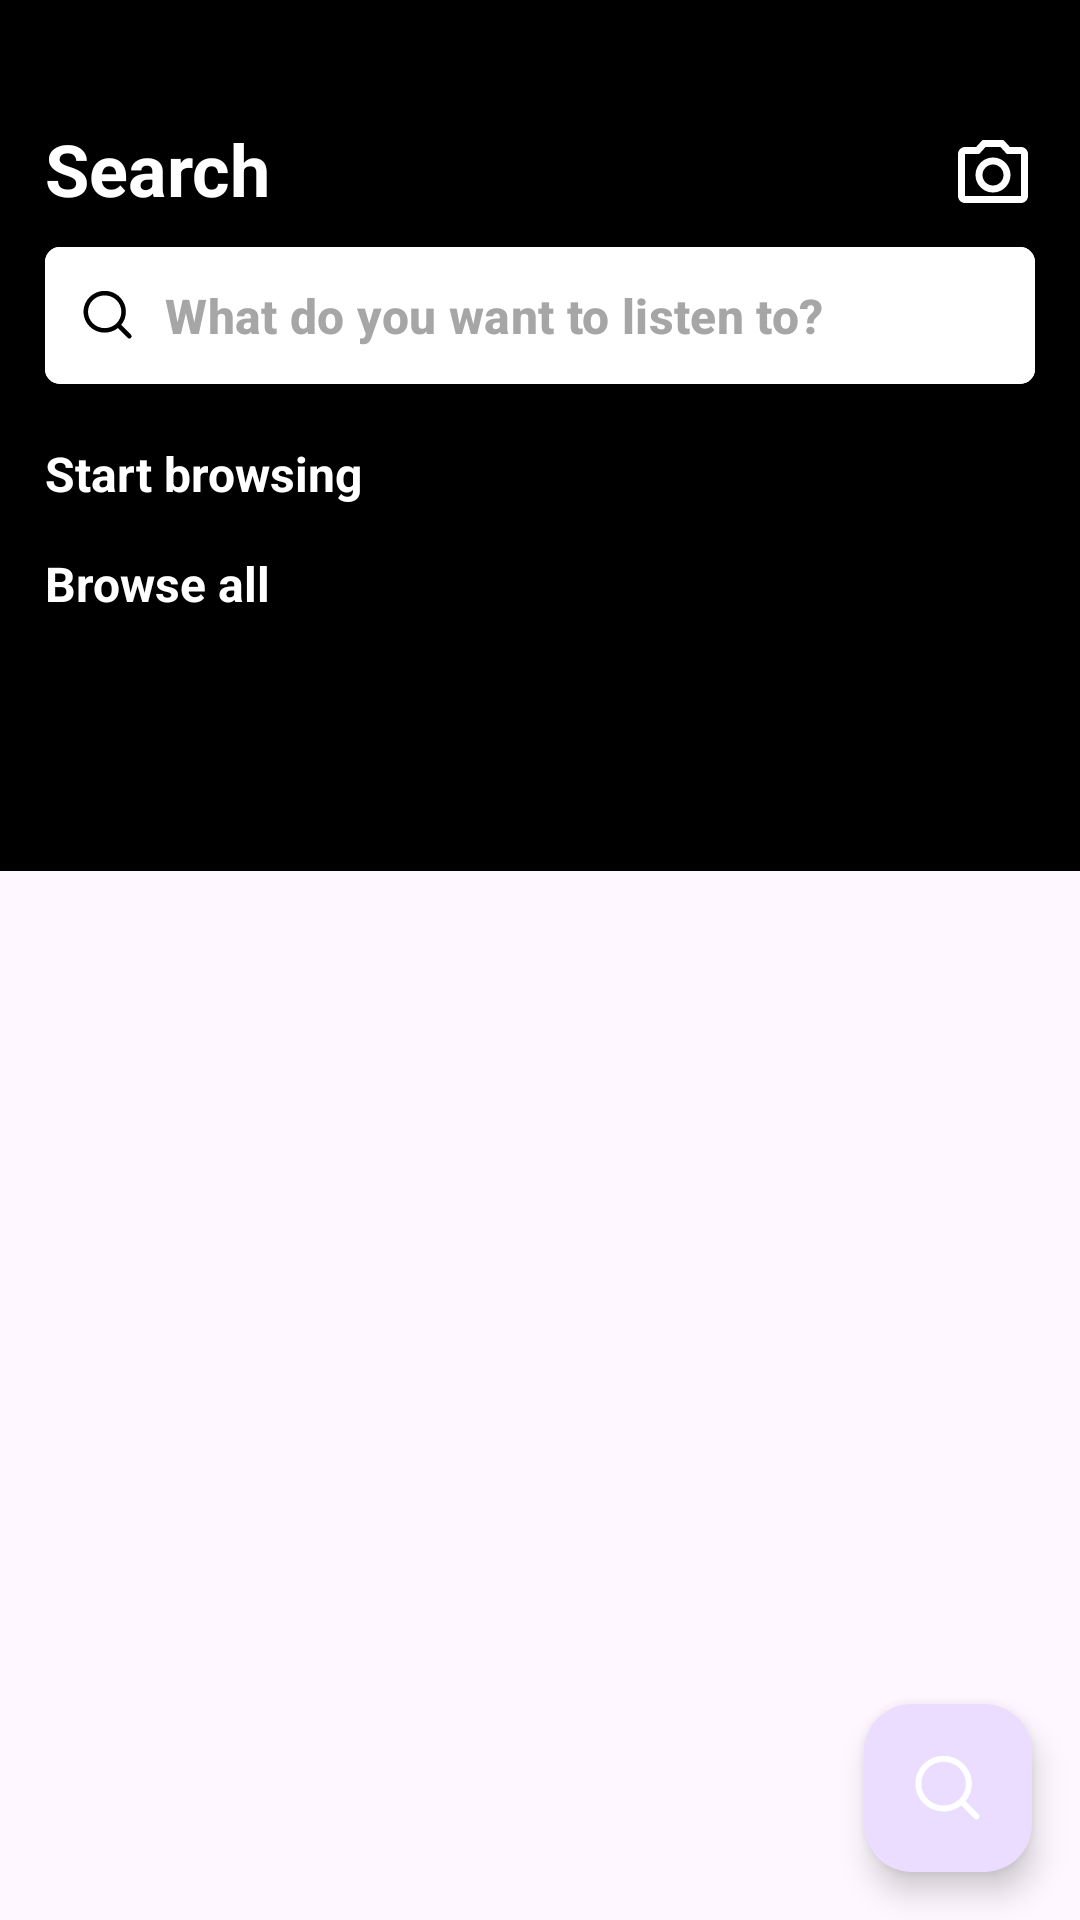

Icon bounding boxes for this 1080px x 1920px phone screenshot, format (x1, y1, x2, y2):
photo camera: (958, 140, 1028, 203)
